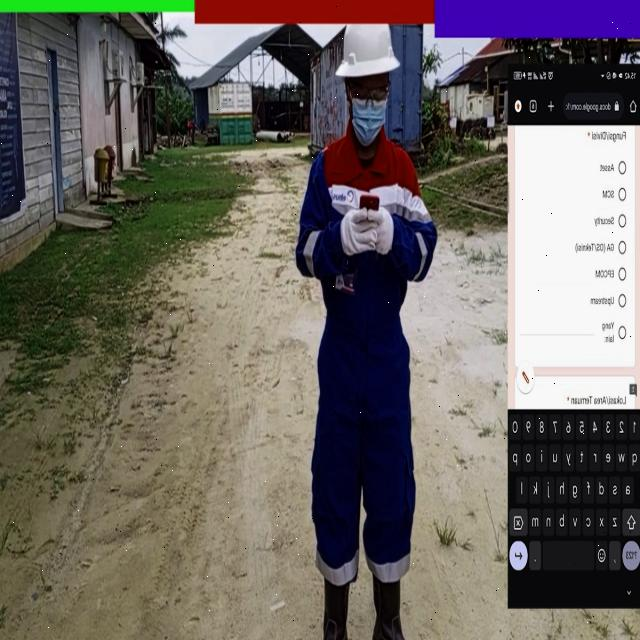Gloves: (340, 205, 374, 256), (366, 202, 393, 255)
Hardhat: (334, 24, 401, 84)
Mask: (350, 99, 386, 148)
Overall Suit: (294, 148, 438, 586)
Safety Boots: (374, 581, 425, 640), (312, 585, 355, 640)
